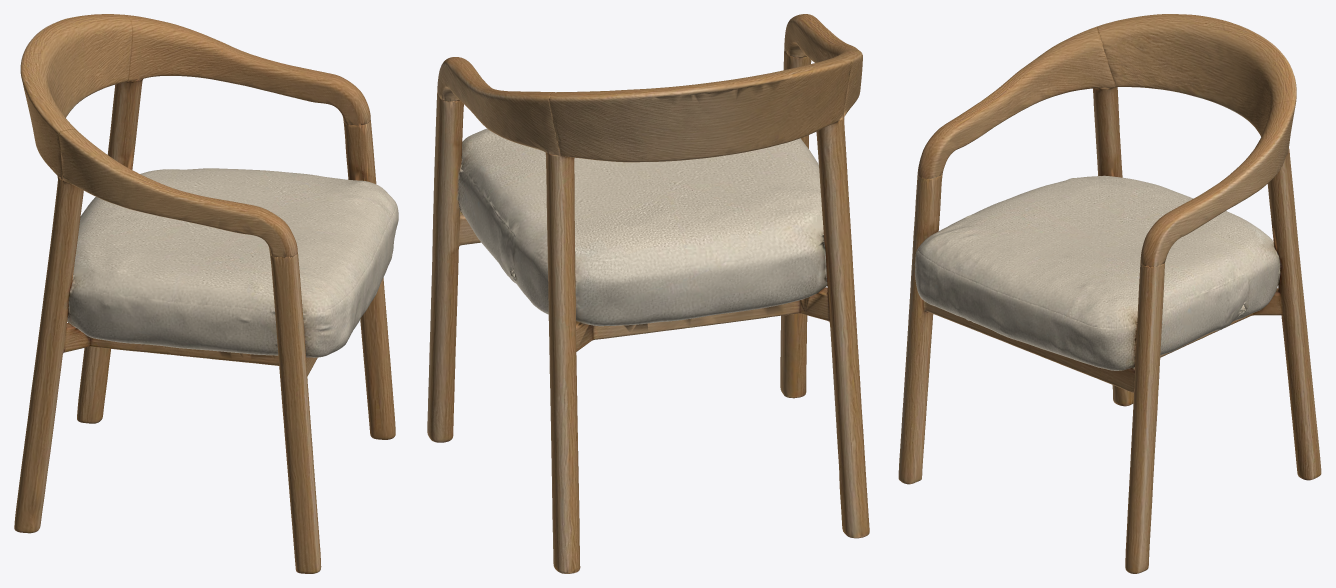
The model's file is m_chair.glb.
The picture shows the model from 3 angles, left to right: view 1: azimuth 30°, elevation 25°; view 2: azimuth 150°, elevation 25°; view 3: azimuth 270°, elevation 25°; orthographic projection. The views are drawn at different scales.
Visible parts, largest first — view 1: tripo_node_3d1da229-d394-4997-9b02-35253121ce3f; view 2: tripo_node_3d1da229-d394-4997-9b02-35253121ce3f; view 3: tripo_node_3d1da229-d394-4997-9b02-35253121ce3f.
Boxes of the visible parts, bbox=[...] form: tripo_node_3d1da229-d394-4997-9b02-35253121ce3f: bbox=[14, 14, 398, 573]; tripo_node_3d1da229-d394-4997-9b02-35253121ce3f: bbox=[427, 14, 869, 573]; tripo_node_3d1da229-d394-4997-9b02-35253121ce3f: bbox=[898, 14, 1321, 573].
Size of the model in its own units: 0.9266 by 0.98 by 0.9283.
Materials: 1 (1 with a texture image).
